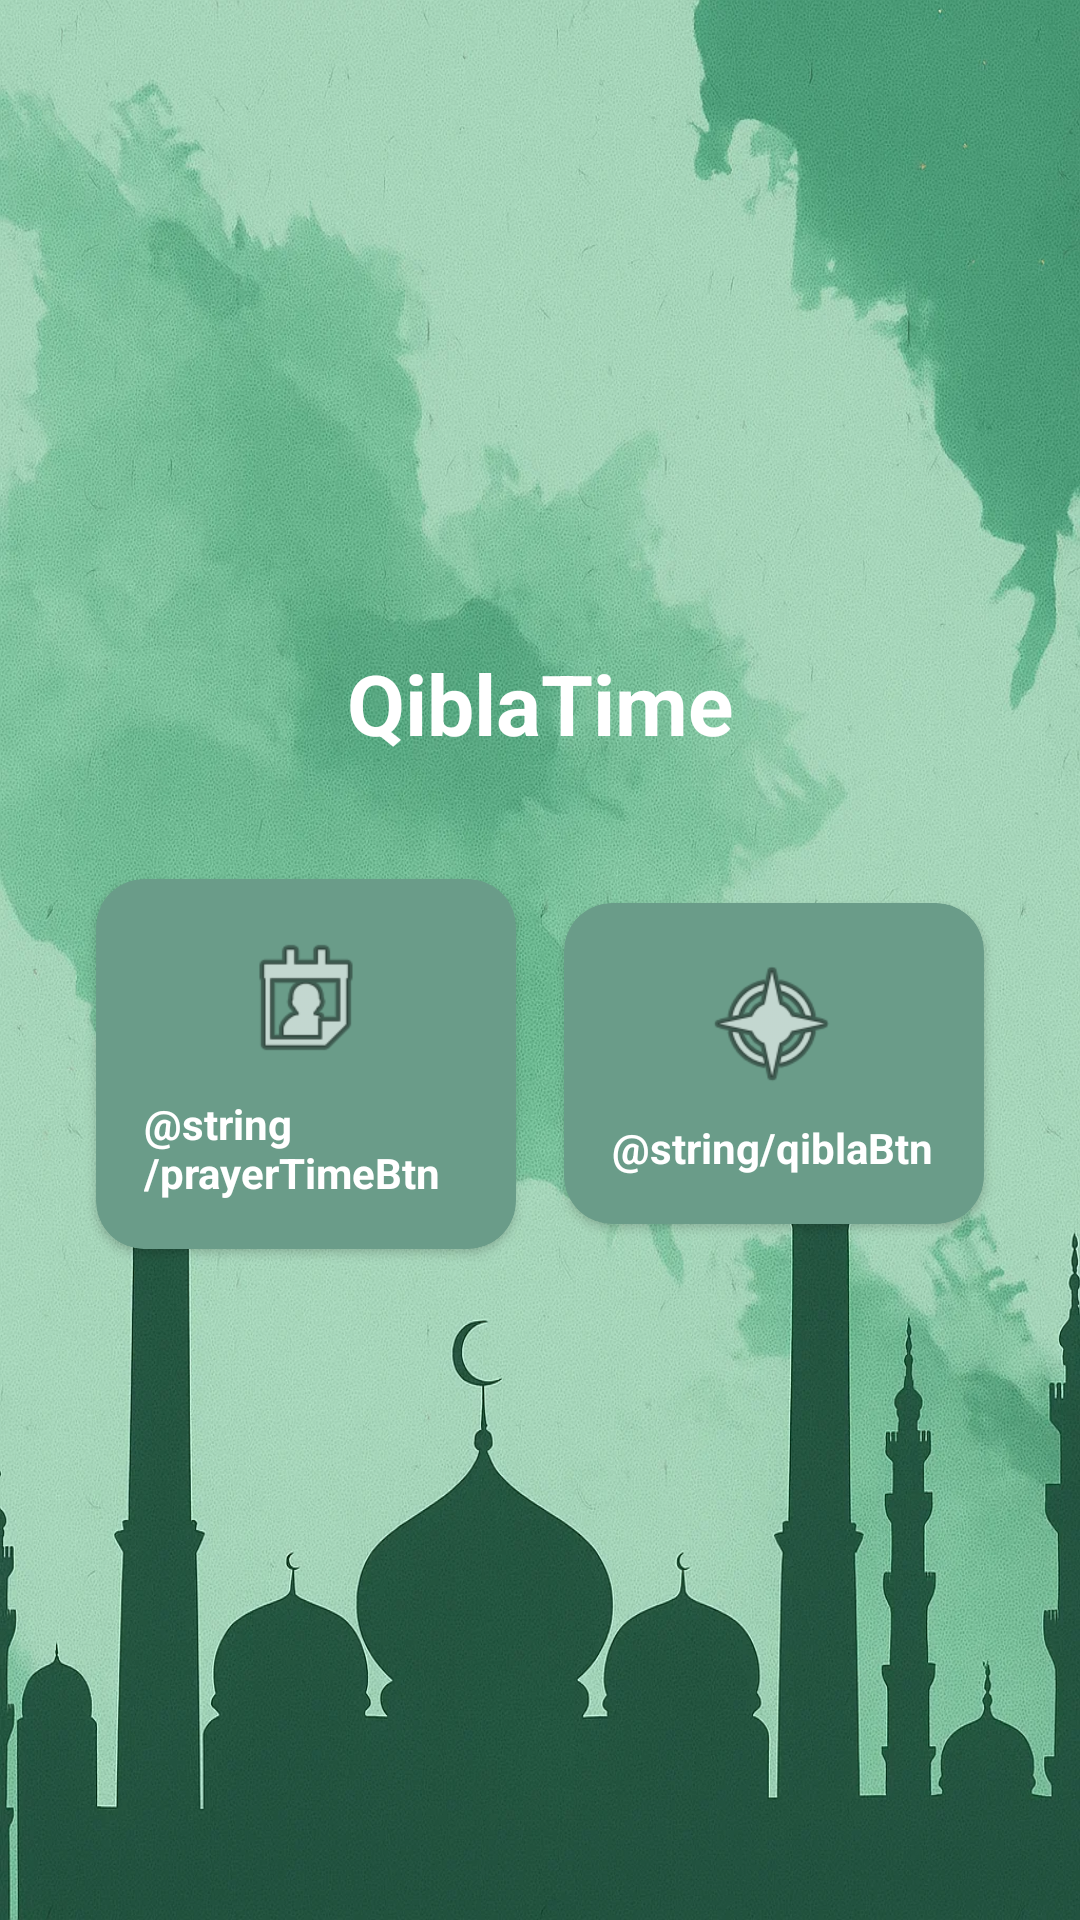

Icon bounding boxes for this 1080 x 1920 phone screenshot, format (x1, y1, x2, y2):
calendar: (259, 945, 353, 1050)
compass: (715, 967, 828, 1080)
